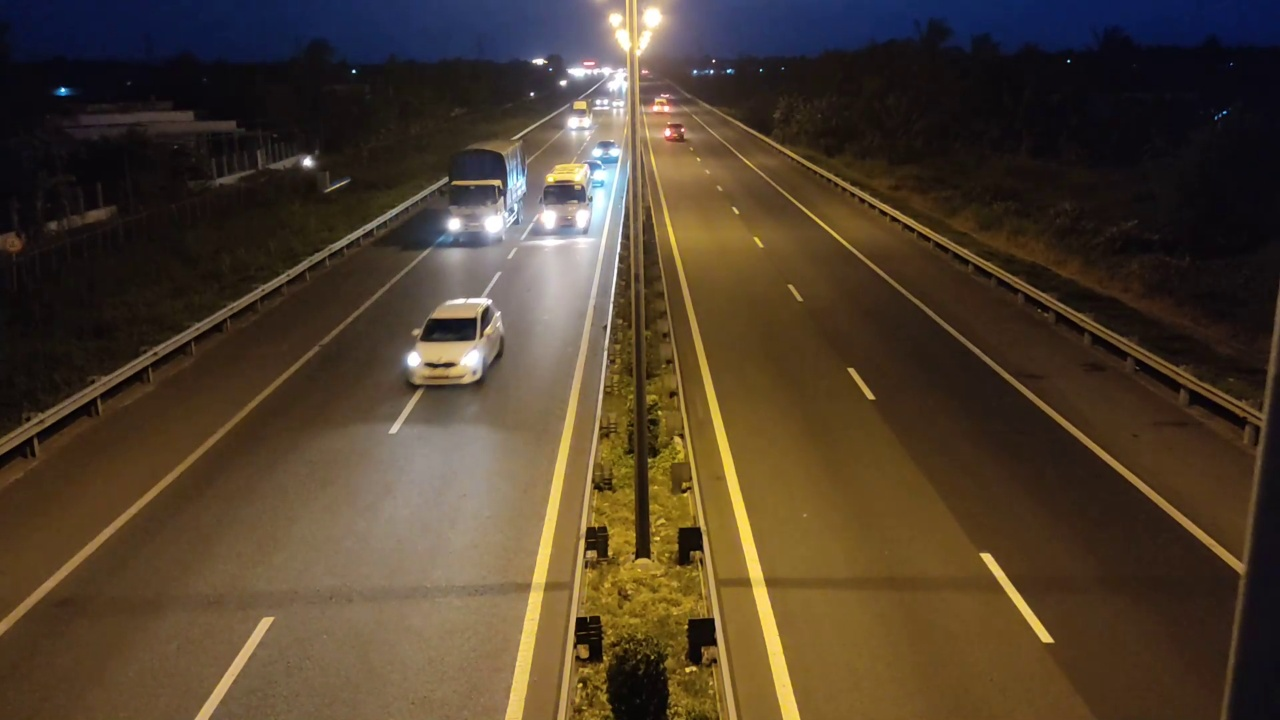bus: (536, 162, 598, 235)
car: (403, 297, 505, 386), (661, 122, 687, 142)
truck: (444, 135, 529, 246)
